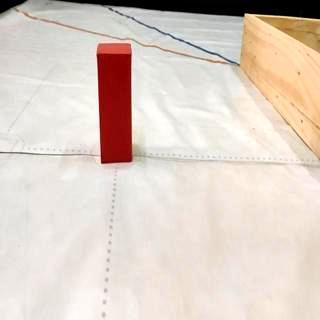redbox: (97, 41, 132, 166)
